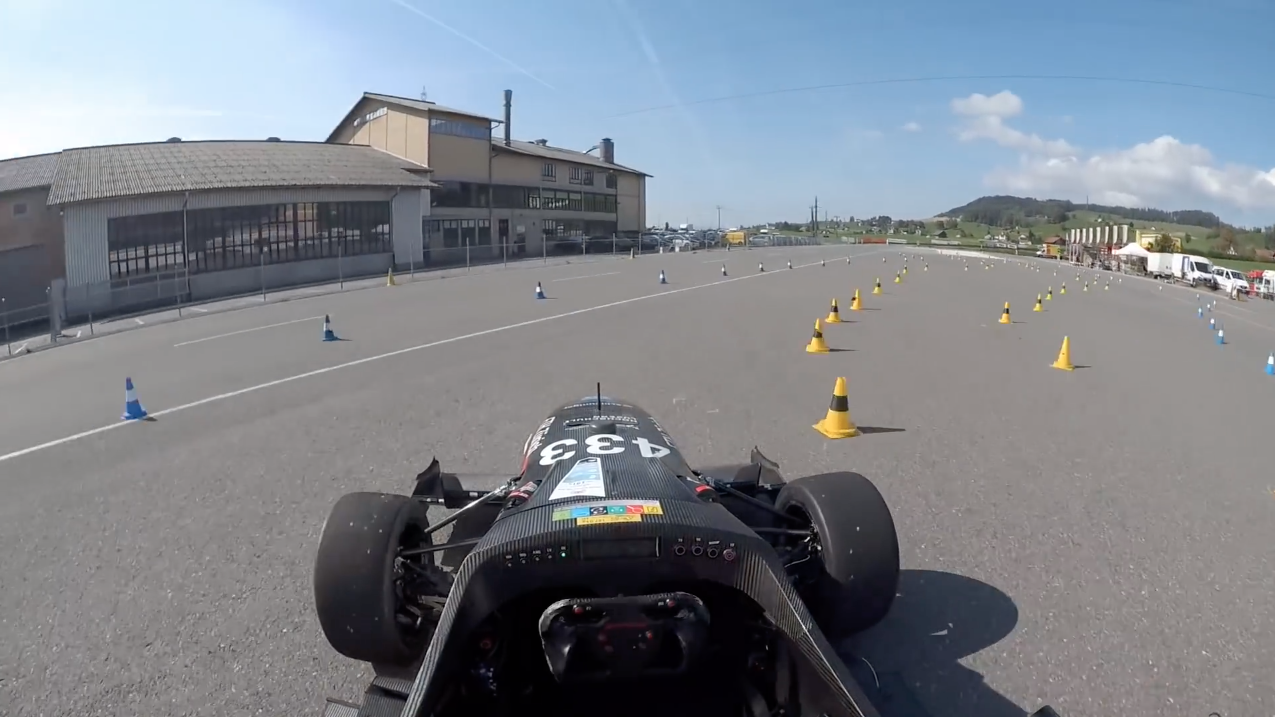lcone: (118, 376, 153, 424), (315, 310, 343, 344), (532, 280, 547, 302)
rcone: (808, 373, 867, 443), (1047, 333, 1080, 375), (805, 314, 833, 356), (824, 295, 844, 324)
